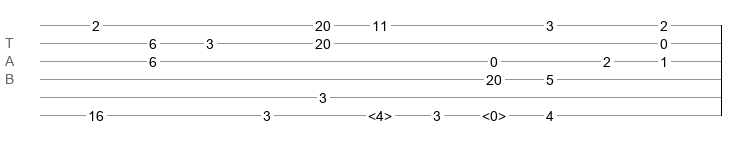0: (490, 54, 498, 64), (660, 36, 668, 46)
1: (660, 54, 668, 64)
11: (372, 18, 388, 28)
16: (88, 108, 104, 118)
2: (92, 18, 100, 28), (603, 54, 611, 64), (660, 18, 668, 28)
20: (315, 18, 331, 28), (315, 36, 331, 46), (486, 72, 502, 82)
3: (206, 36, 214, 46), (263, 108, 271, 118), (319, 90, 327, 100), (433, 108, 441, 118), (546, 18, 554, 28)
4: (546, 108, 554, 118)
5: (546, 72, 554, 82)
6: (149, 54, 157, 64), (149, 36, 157, 46)
harmonic: (368, 108, 392, 118), (482, 108, 506, 118)
